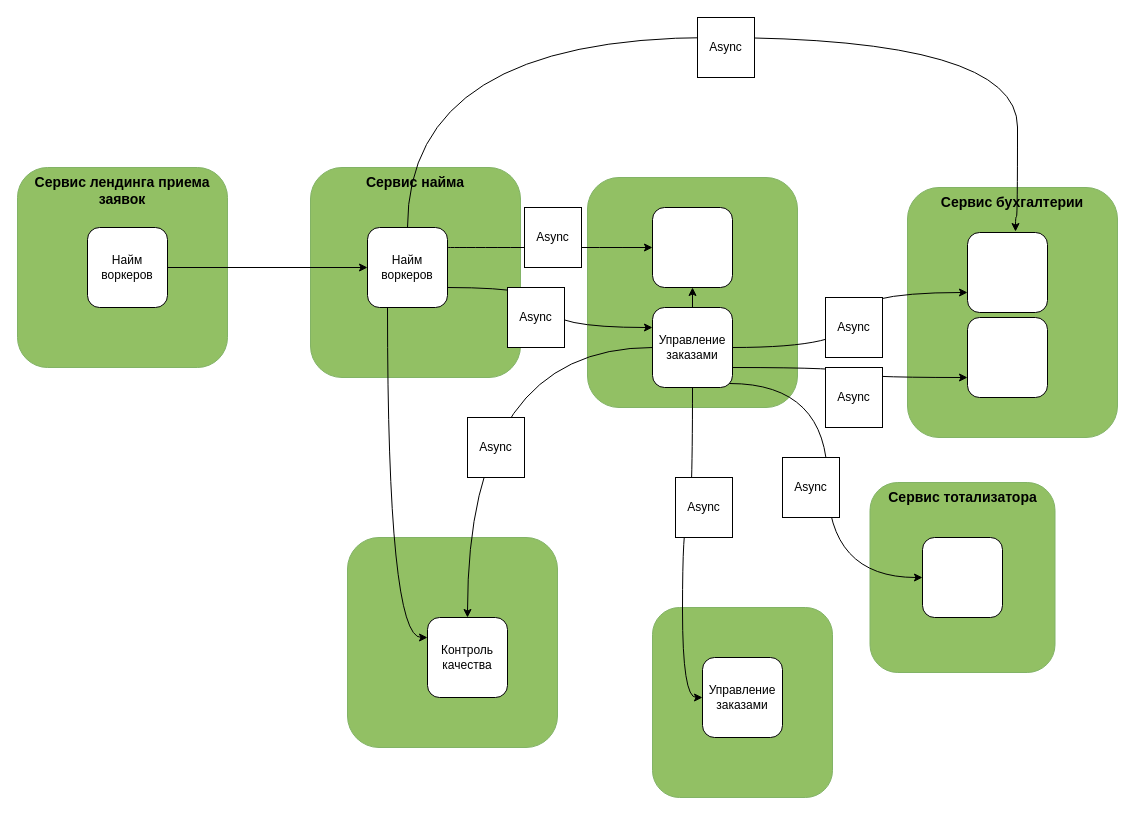
Image size: 1135x815. Some labels were removed from this diagram. Each missing label, with the box of its shape:
Выплаты воркерам: (966, 232, 1048, 312)
Матчинг воркеров: (652, 206, 732, 288)
Оплата заказов: (966, 316, 1048, 398)
Сервис контроля качества: (346, 536, 558, 748)
Сервис отдела расходников: (652, 606, 832, 798)
Сервис управление услугами: (586, 176, 798, 408)
Тотализатор: (922, 536, 1002, 618)
